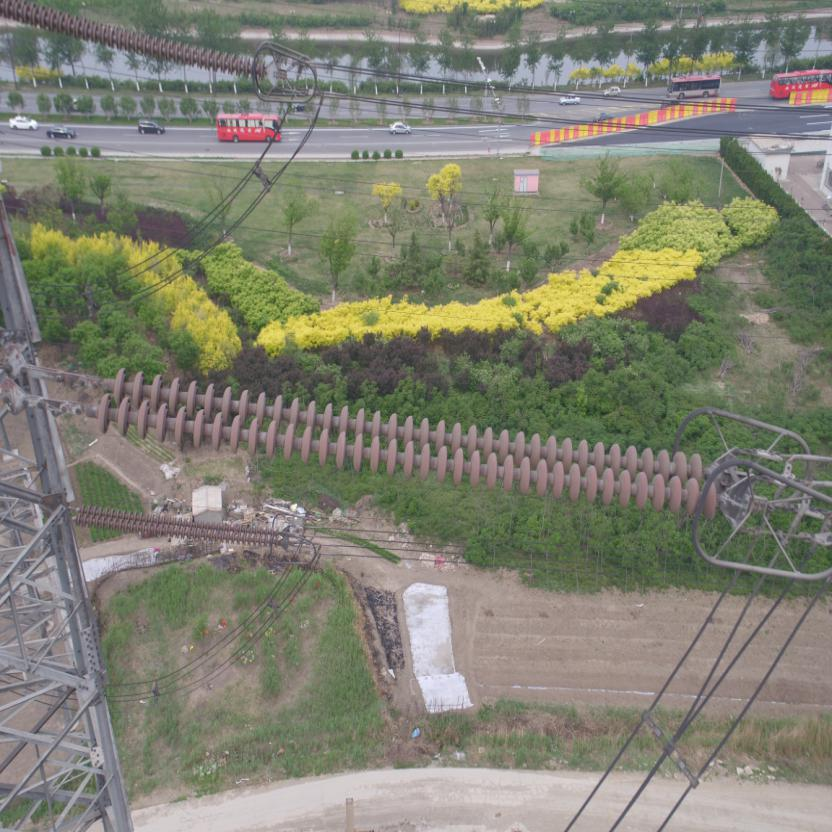insulator: (56, 359, 728, 520)
